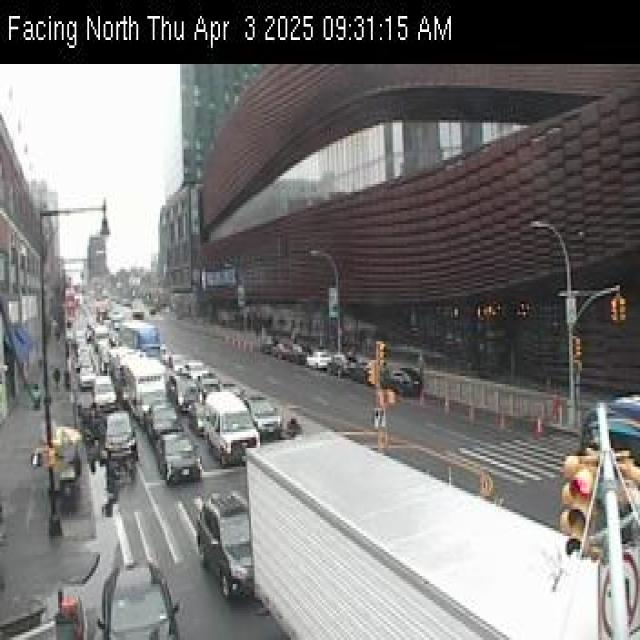open parking: (261, 337, 455, 397)
